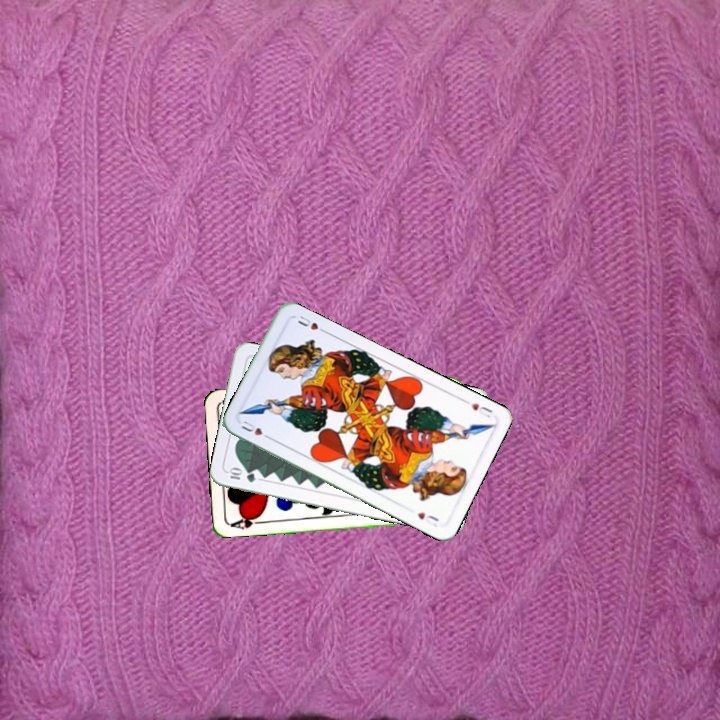G10: (224, 465, 258, 485)
HA: (226, 511, 267, 532)
HU: (237, 417, 275, 443), (467, 399, 495, 420)
